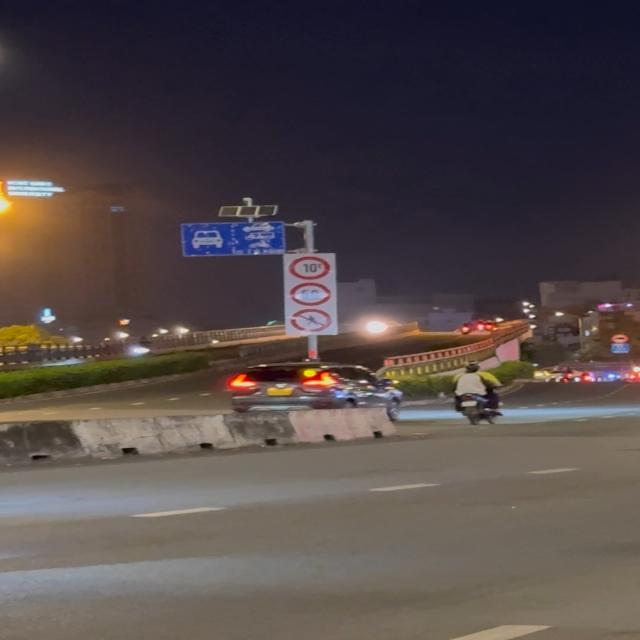Bien bao cam nguoi di bo: (290, 308, 334, 333)
Bien bao toc do toi da cho phep: (288, 282, 331, 306)
